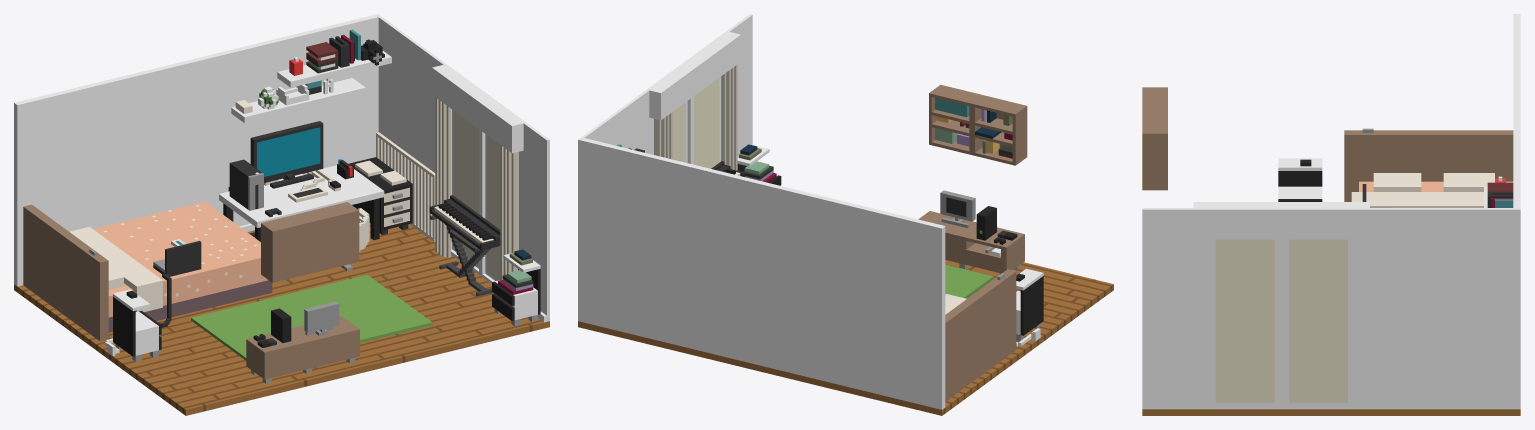
File: box_room.dae
3 views of the same model, side by side, from view 1: azimuth 30°, elevation 25°; view 2: azimuth 150°, elevation 25°; view 3: azimuth 270°, elevation 25° (orthographic). The views are drawn at different scales.
Visible parts, largest first — view 1: chambre; view 2: chambre; view 3: chambre.
Boxes of the visible parts, x1=… form: chambre: x1=14, y1=14, x2=549, y2=415; chambre: x1=578, y1=14, x2=1113, y2=415; chambre: x1=1142, y1=14, x2=1520, y2=415.
Bounding box in the file's own units: 126 × 103 × 62.
Materials: 1 (1 with a texture image).
